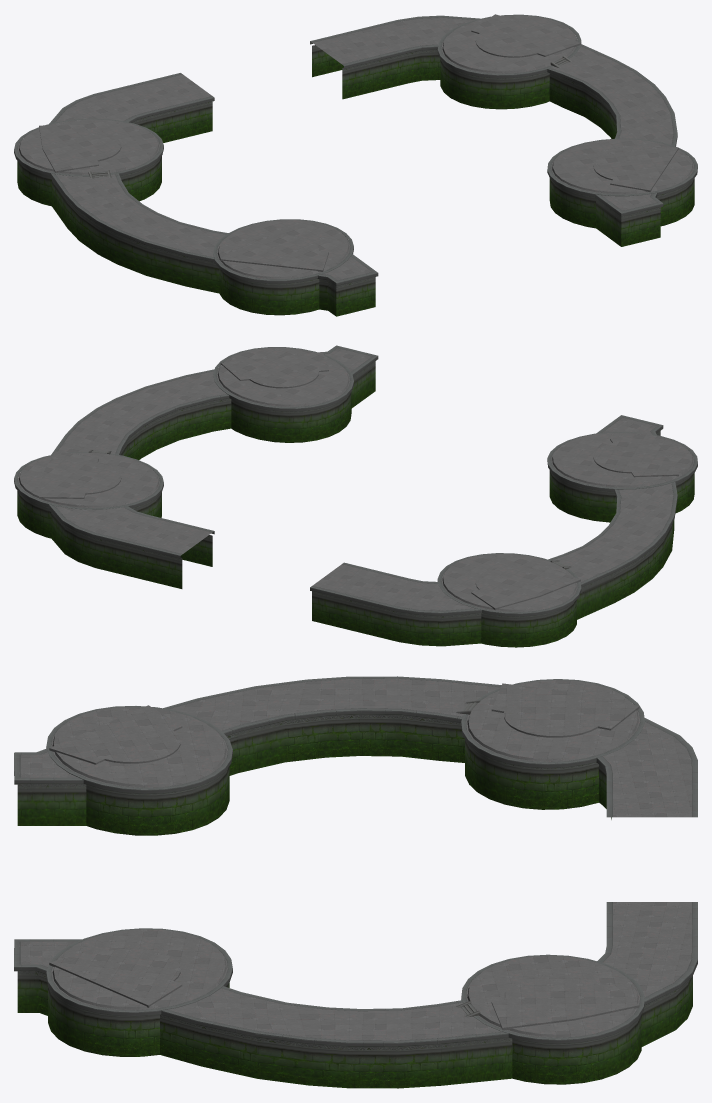
File: ZYbui_CLF_ditai01.FBX
The picture shows the model from 3 angles, top to bottom: view 1: azimuth 30°, elevation 25°; view 2: azimuth 150°, elevation 25°; view 3: azimuth 270°, elevation 25°; orthographic projection. The views are drawn at different scales.
Visible parts, largest first — view 1: ZYbui_CLF_ditai01; view 2: ZYbui_CLF_ditai01; view 3: ZYbui_CLF_ditai01.
Part boxes in pixels (bbox=[...]): ZYbui_CLF_ditai01: bbox=[14, 14, 697, 316]; ZYbui_CLF_ditai01: bbox=[14, 345, 697, 647]; ZYbui_CLF_ditai01: bbox=[14, 676, 697, 1088].
Bounding box in the file's own units: 9981 × 649 × 7875.
